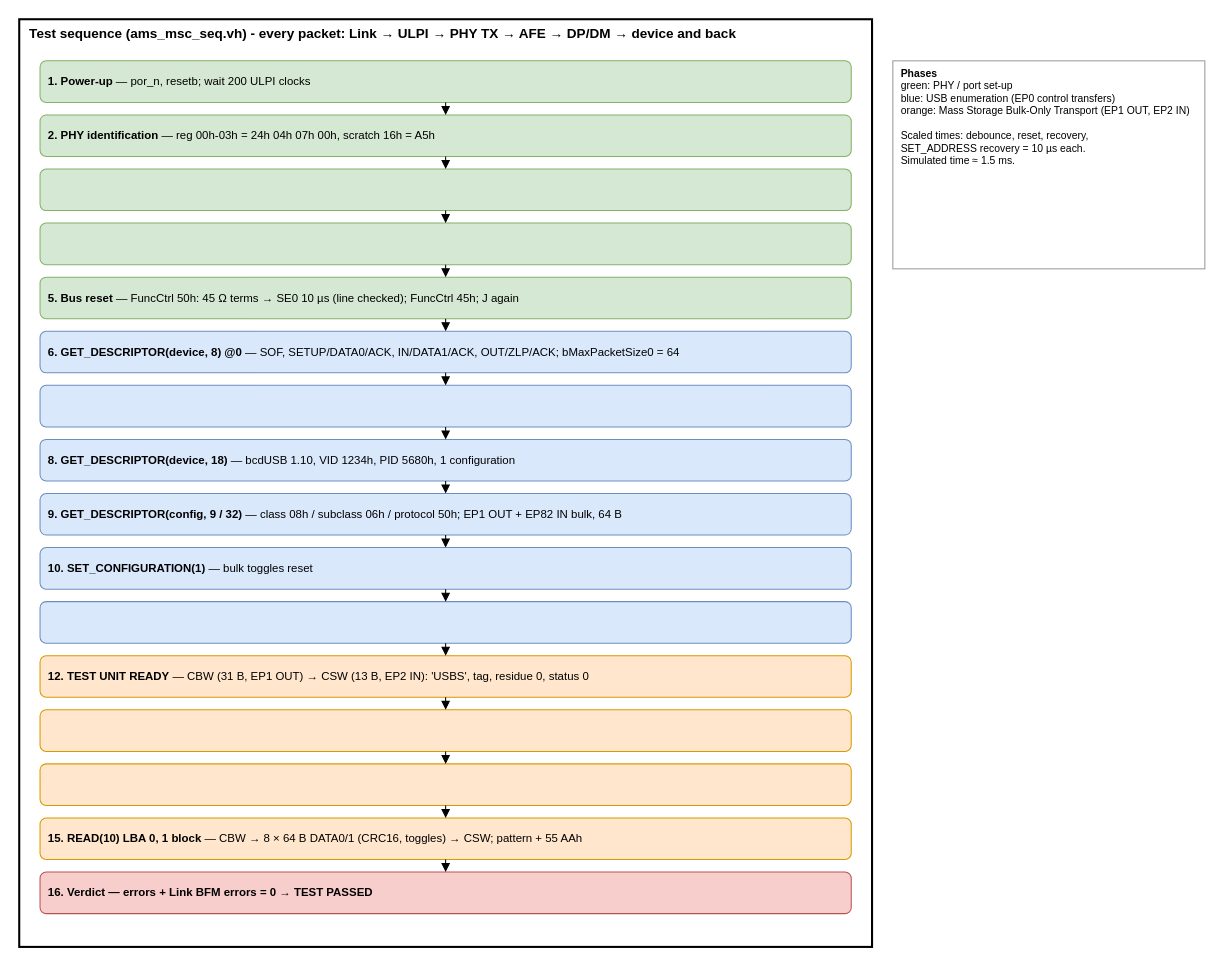
Some shapes in this 1223 by 965 pixel diagram are drawn without their labels. Here are the shapes that lost their labels. From the top down, the centre of each, then its label:
(445,189): 3. Host mode — OTG Ctrl 66h (pull-downs, DrvVbus); FuncCtrl 45h (FS host)
(445,243): 4. Attach — Debug[1:0] 00 → 01 (J); debounce 10 µs; DP > 2.7 V, DM < 0.3 V
(445,405): 7. SET_ADDRESS(7) — SETUP + IN status ZLP; 10 µs recovery
(445,622): 11. GET_MAX_LUN — class request A1h/FEh → 0
(445,730): 13. INQUIRY (36 B) — CBW → 36 B data → CSW; 'ACME', 'VA FS Disk', '1.00'
(445,784): 14. READ CAPACITY(10) — CBW → 8 B: last LBA FFFFh, block 512 → CSW
